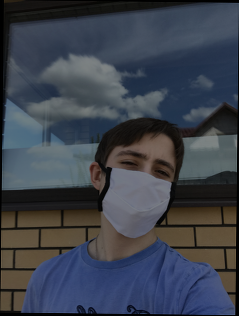with_mask: (97, 138, 176, 239)
